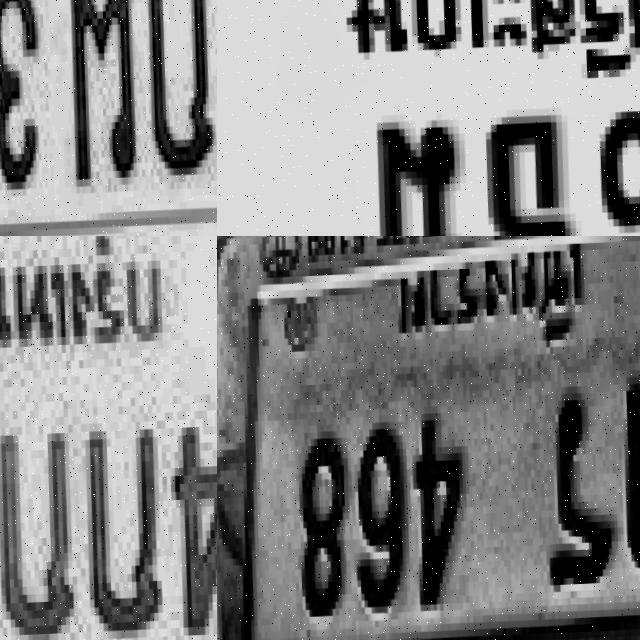license-plate: (217, 236, 640, 640), (217, 0, 640, 236), (0, 236, 217, 640), (0, 0, 217, 236)
